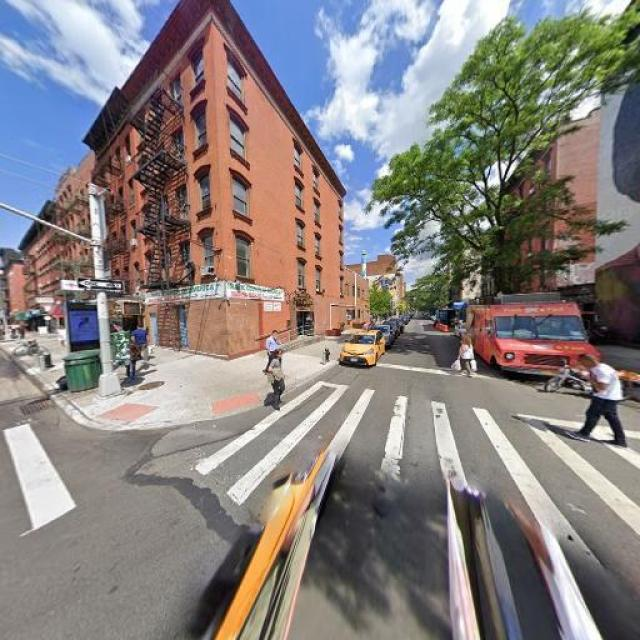Building: (100, 1, 344, 352), (595, 1, 640, 350)
